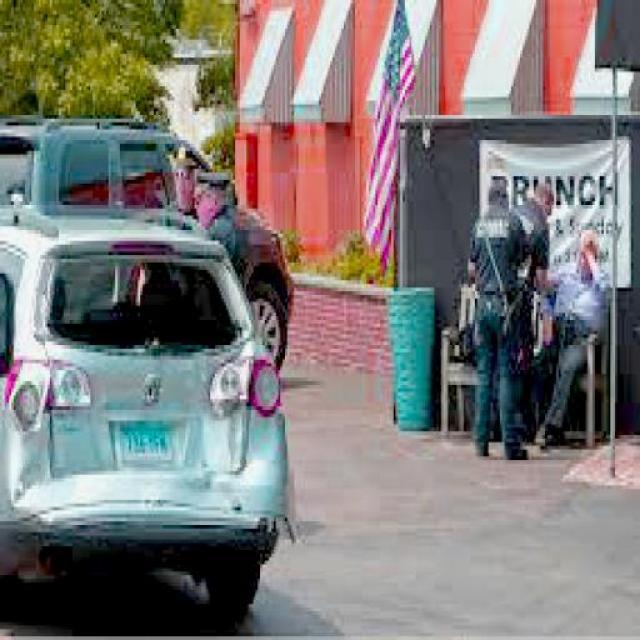Car-Damage: (1, 242, 283, 529)
